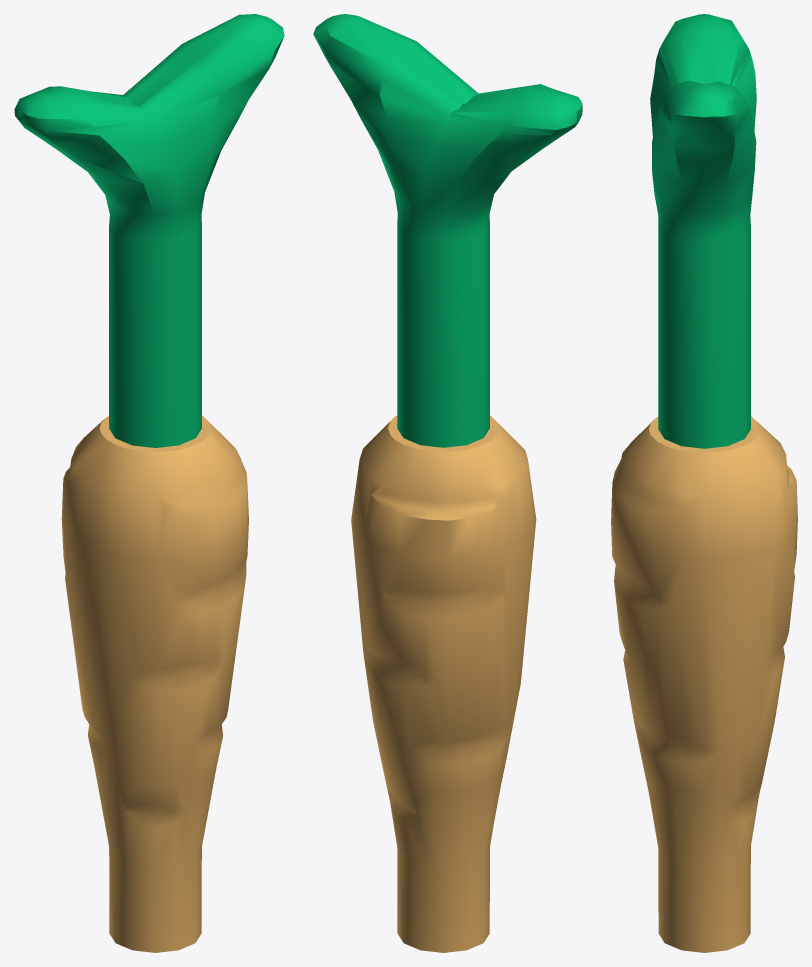
The model's file is carrot.dae.
The picture shows the model from 3 angles, left to right: view 1: azimuth 30°, elevation 25°; view 2: azimuth 150°, elevation 25°; view 3: azimuth 270°, elevation 25°; orthographic projection.
Parts seen in each view (by area): view 1: Object; view 2: Object; view 3: Object.
Boxes of the visible parts, <box> form: Object: <box>14,14,284,952</box>; Object: <box>313,14,582,952</box>; Object: <box>611,14,797,952</box>.
Size of the model in its own units: 0.0103 by 0.00645 by 0.0339.
